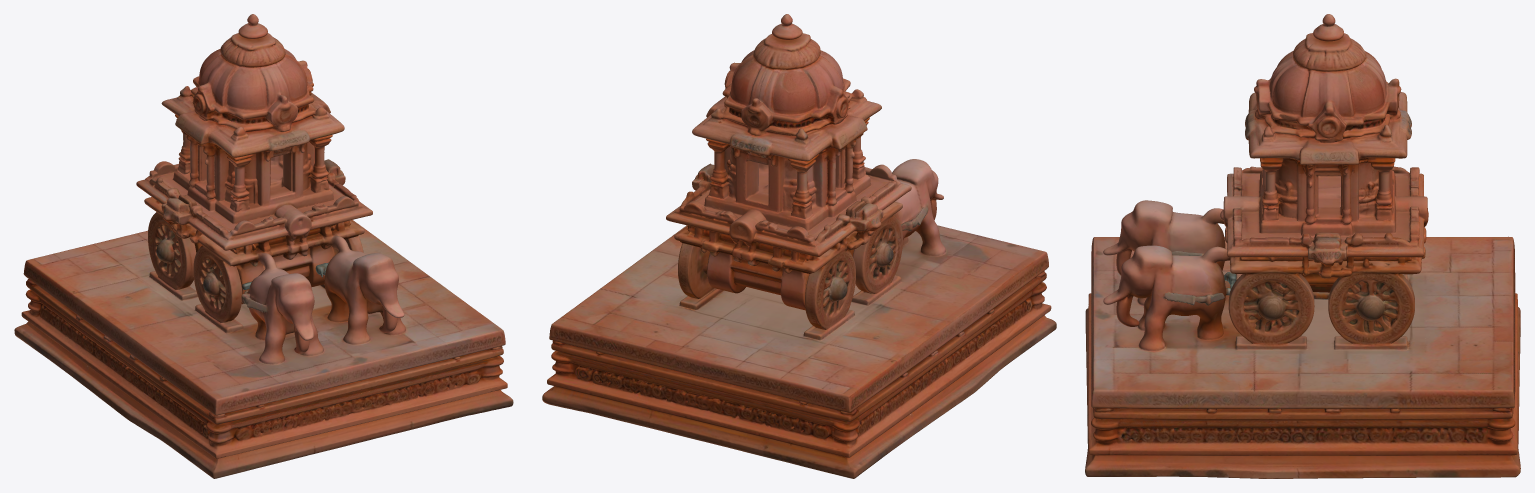
Rendered from hampi_ancient.glb.
3 views of the same model, side by side, from view 1: azimuth 30°, elevation 25°; view 2: azimuth 150°, elevation 25°; view 3: azimuth 270°, elevation 25° (orthographic). The views are drawn at different scales.
Parts seen in each view (by area): view 1: tripo_node_6c329ec7-1807-4b1a-85da-d25a9fa9e120; view 2: tripo_node_6c329ec7-1807-4b1a-85da-d25a9fa9e120; view 3: tripo_node_6c329ec7-1807-4b1a-85da-d25a9fa9e120.
Part boxes in pixels (bbox=[...]): tripo_node_6c329ec7-1807-4b1a-85da-d25a9fa9e120: bbox=[14, 14, 513, 478]; tripo_node_6c329ec7-1807-4b1a-85da-d25a9fa9e120: bbox=[542, 14, 1056, 478]; tripo_node_6c329ec7-1807-4b1a-85da-d25a9fa9e120: bbox=[1085, 14, 1520, 478].
Size of the model in its own units: 0.8923 by 0.97 by 1.
1 material, 1 textured.
